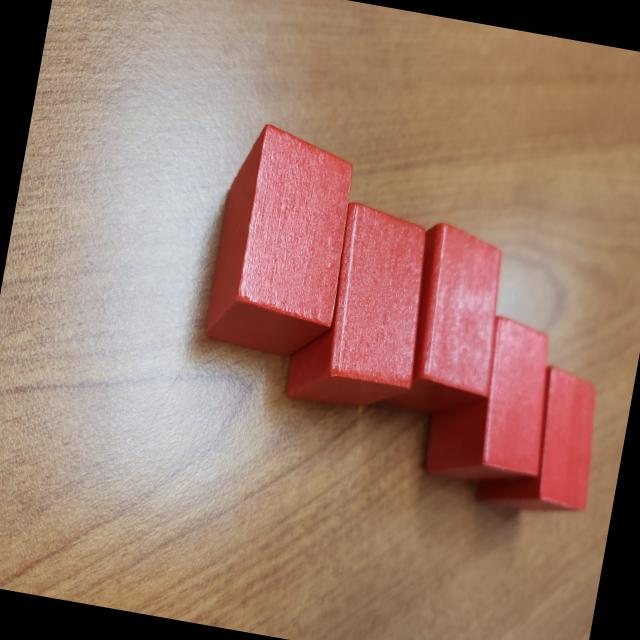red: (201, 118, 364, 366), (282, 196, 441, 420), (369, 214, 518, 424), (420, 305, 566, 494), (472, 354, 610, 523)
